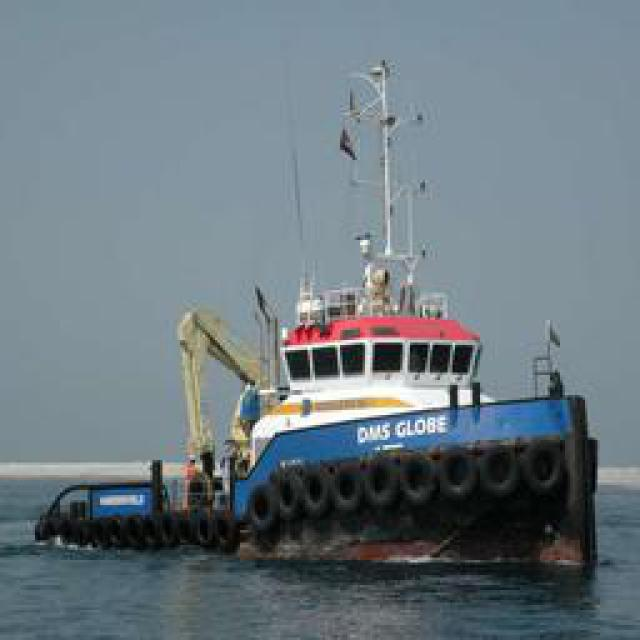Ship: (109, 175, 604, 563)
